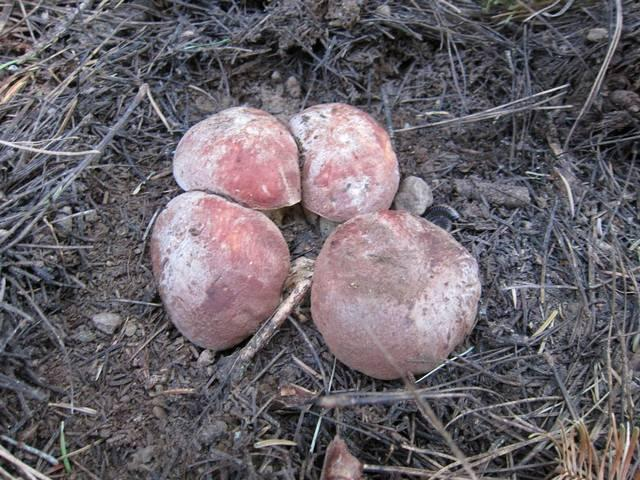edible_mushroom: (309, 208, 482, 380), (148, 189, 291, 351), (287, 101, 400, 228), (171, 104, 302, 213)
